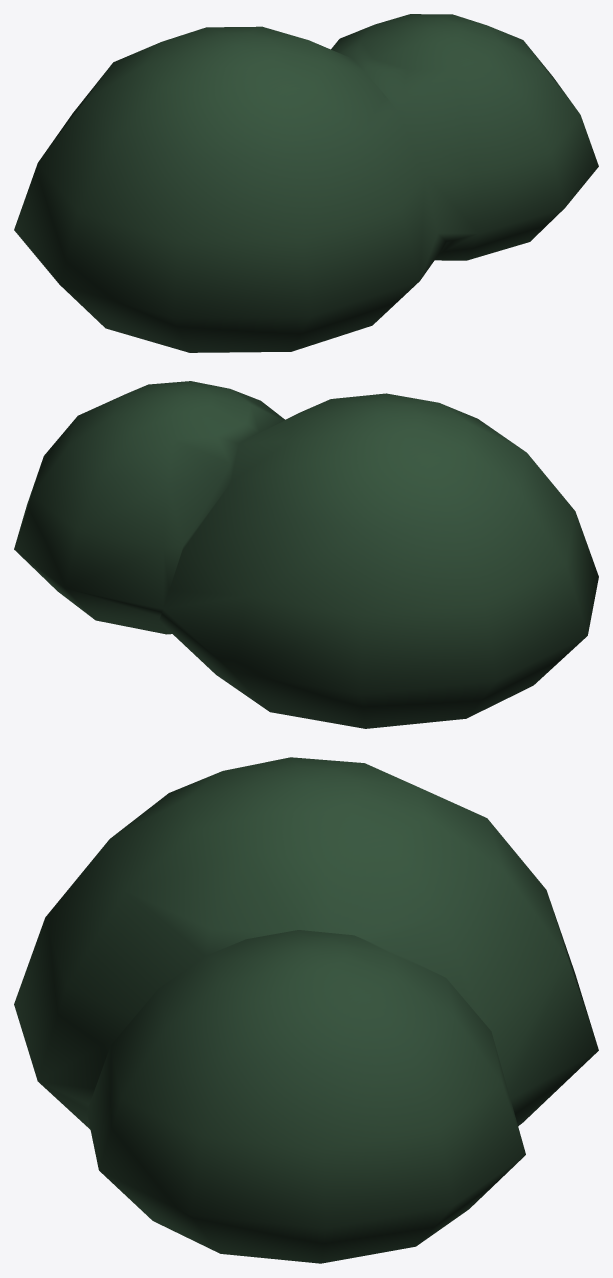
The model's file is plants-bushes-twigs-round-bush_v7.glb.
3 renders of one model, top to bottom at view 1: azimuth 30°, elevation 25°; view 2: azimuth 150°, elevation 25°; view 3: azimuth 270°, elevation 25°, orthographic. The views are drawn at different scales.
Visible parts, largest first — view 1: Round Bush_v7; view 2: Round Bush_v7; view 3: Round Bush_v7.
Part boxes in pixels (bbox=[...]): Round Bush_v7: bbox=[14, 14, 598, 352]; Round Bush_v7: bbox=[14, 381, 598, 728]; Round Bush_v7: bbox=[14, 757, 598, 1263].
Size of the model in its own units: 1 by 0.475 by 0.7148.
